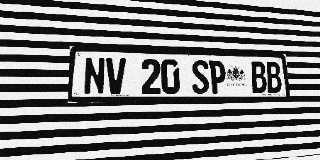0: (161, 59, 180, 94)
2: (141, 58, 161, 94)
B: (250, 61, 267, 93), (265, 62, 282, 93)
N: (83, 57, 105, 95)
P: (208, 60, 227, 94)
S: (191, 60, 210, 94)
V: (105, 58, 126, 95)
